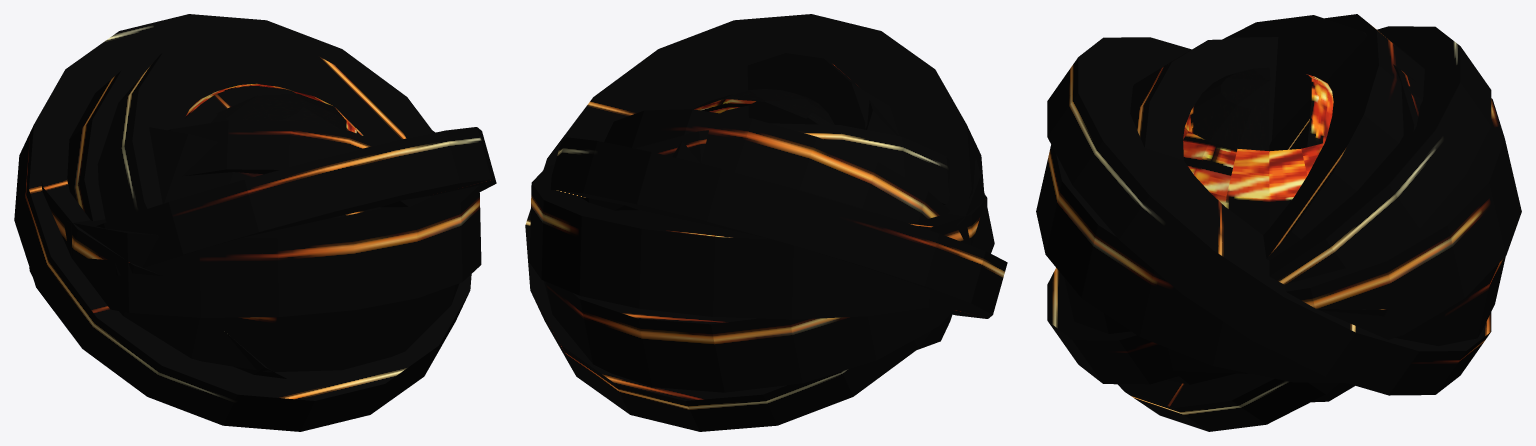
File: frame_096.obj
3 renders of one model, left to right at view 1: azimuth 30°, elevation 25°; view 2: azimuth 150°, elevation 25°; view 3: azimuth 270°, elevation 25°, orthographic. The views are drawn at different scales.
Visible parts, largest first — view 1: cylinder, sphere; view 2: cylinder, sphere; view 3: cylinder, sphere.
Part boxes in pixels (x1,y1,x2,y2): cylinder: [14, 14, 496, 431]; sphere: [185, 83, 363, 135]; cylinder: [525, 14, 1007, 431]; sphere: [693, 89, 834, 124]; cylinder: [1036, 14, 1521, 431]; sphere: [1183, 67, 1333, 234].
Bounding box in the file's own units: 1.12 × 0.8038 × 1.05.
5 materials, 5 textured.
